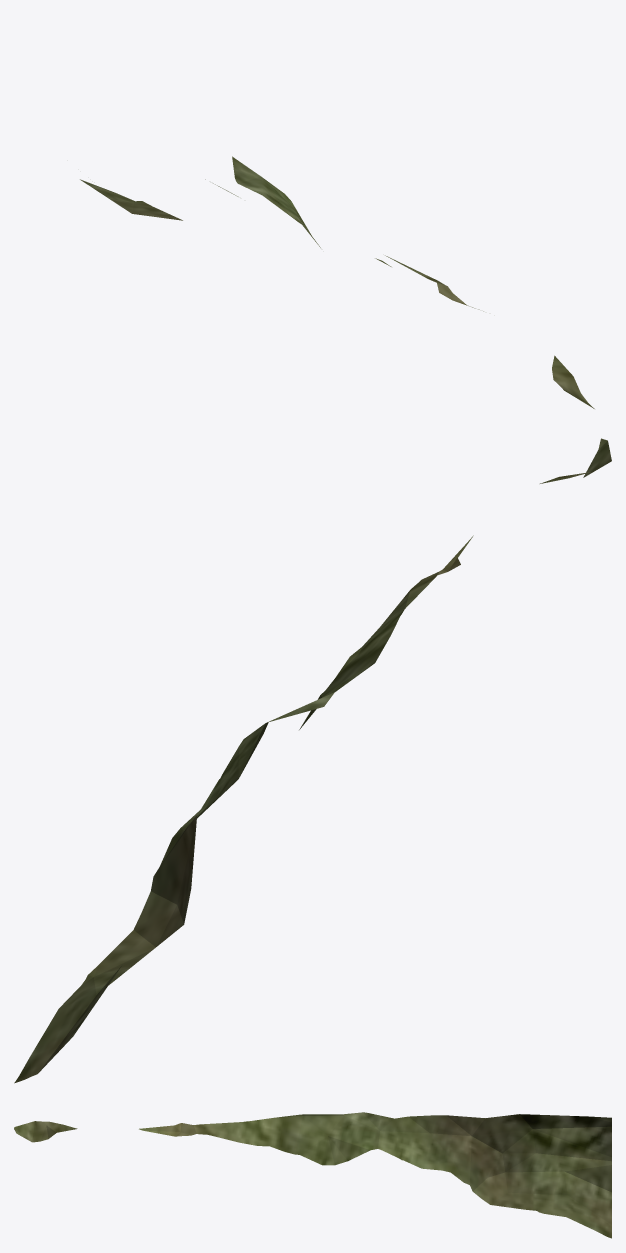
The picture shows the model from 3 angles, top to bottom: view 1: azimuth 30°, elevation 25°; view 2: azimuth 150°, elevation 25°; view 3: azimuth 270°, elevation 25°; orthographic projection. The views are drawn at different scales.
Bounding box in the file's own units: 0.2007 × 0.5531 × 2.73.
Materials: 1 (1 with a texture image).
